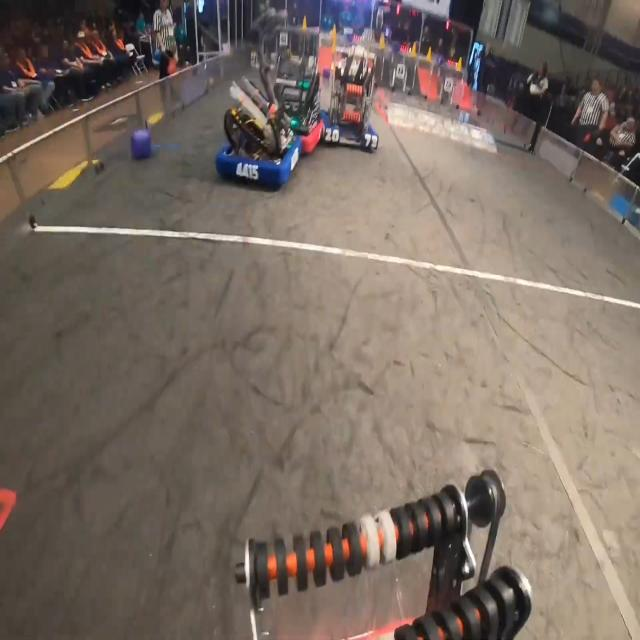robot: (215, 77, 302, 184), (321, 48, 378, 152), (273, 51, 324, 153)
